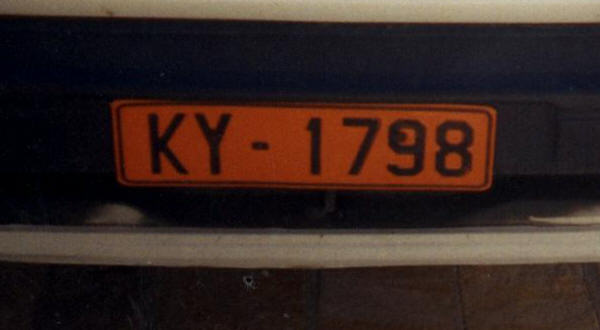license_plate: (111, 100, 495, 192)
